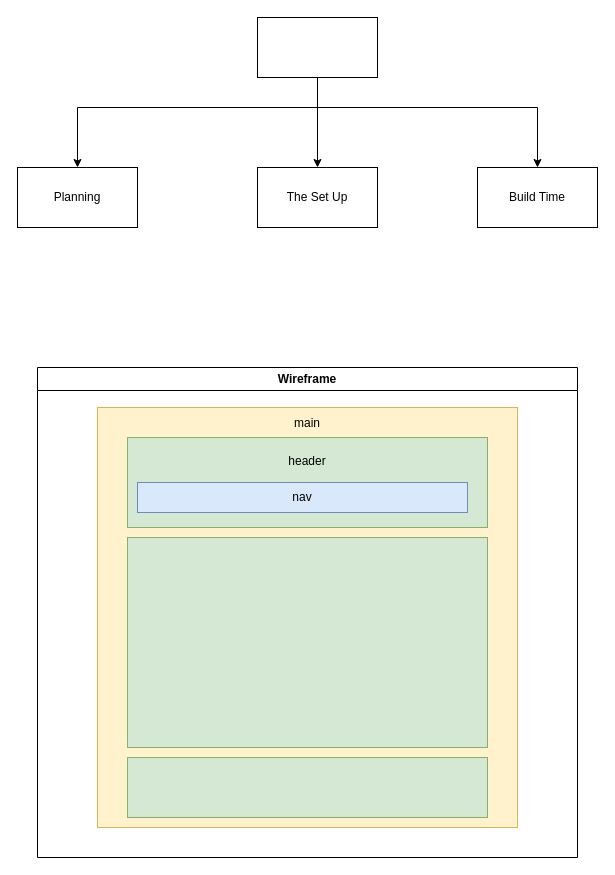
The diagram is 615 pixels wide and 875 high, and some of its shapes have lost their labels. Each missing label, with the centre of its shape:
"footer" belongs at point 307,787.
"home" belongs at point 317,47.
"section" belongs at point 307,642.
